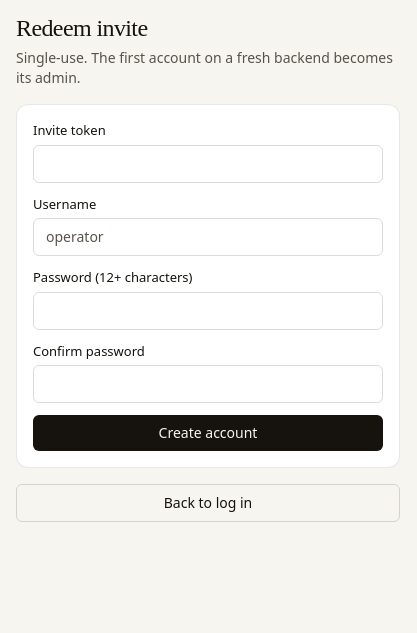
Test: RedeemPage › validates every field before submitting
Click the button "Create account" at x=208, y=433, box [33,415,383,451]
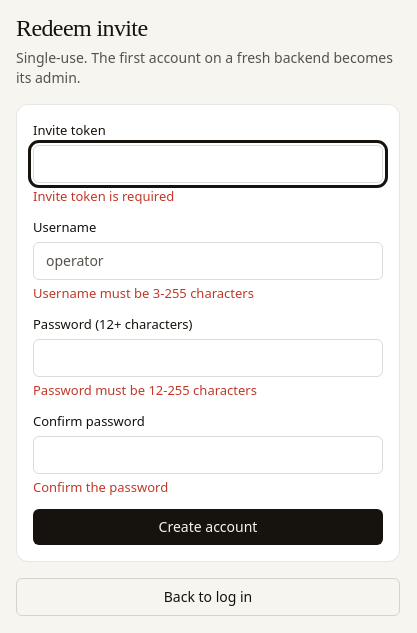
Check: the text "Invite token is required" is shown, box [33,186,174,204]
Check: the text "Username must be 3-255 characters" is shown, box [33,284,254,302]
Check: the text "Password must be 12-255 characters" is shown, box [33,380,257,398]
